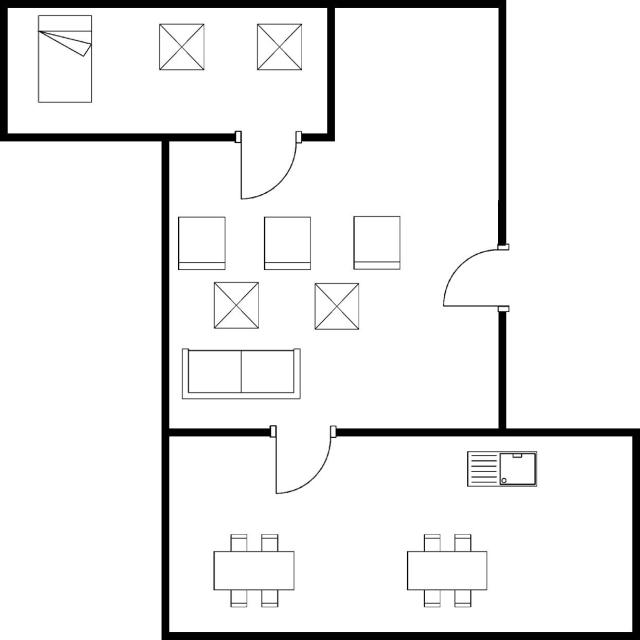bed: (33, 7, 97, 107)
coffee_table: (156, 18, 208, 78), (309, 280, 364, 334), (252, 20, 306, 74), (210, 278, 262, 332)
dining_table: (208, 526, 300, 613), (404, 530, 492, 610)
large_sofa: (176, 341, 306, 404)
sink: (464, 445, 540, 492)
small_sofa: (259, 210, 316, 275), (173, 212, 230, 272), (351, 211, 406, 273)
